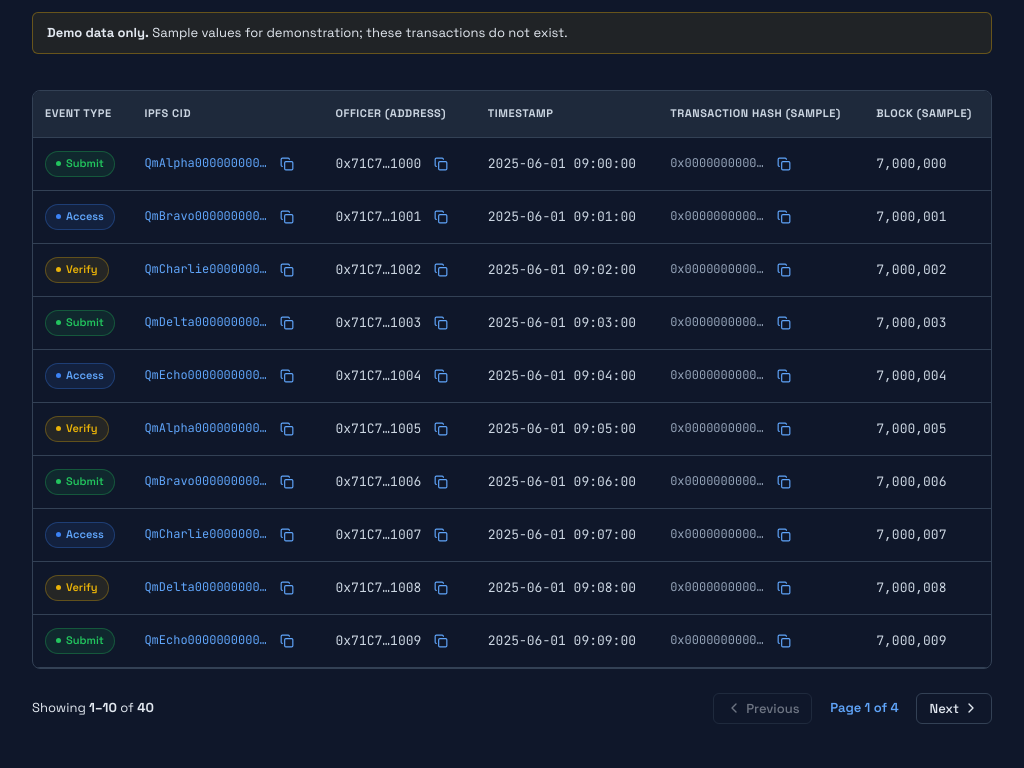
Test: ChainOfCustody: pagination › shows 10 rows per page and pages with Next and Previous
This screenshot has width=1024, height=768.
Click the button with aria-label "Next page" at (954, 708), box [916,693,992,724]
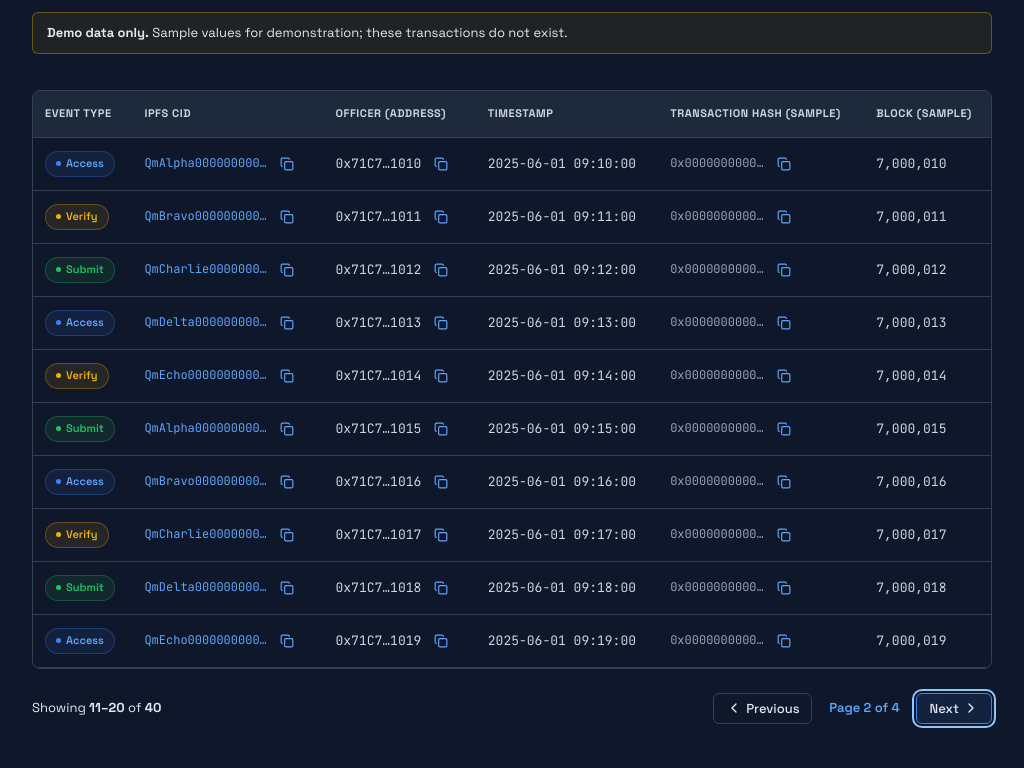
Check: the button named "transaction hash for event LOG-011" is shown, box [770,150,798,178]
Check: the navigation bar named "Pagination" shows "Page 2 of 4", box [32,693,992,724]
Click the button with aria-label "Previous page" at (763, 708), box [713,693,812,724]
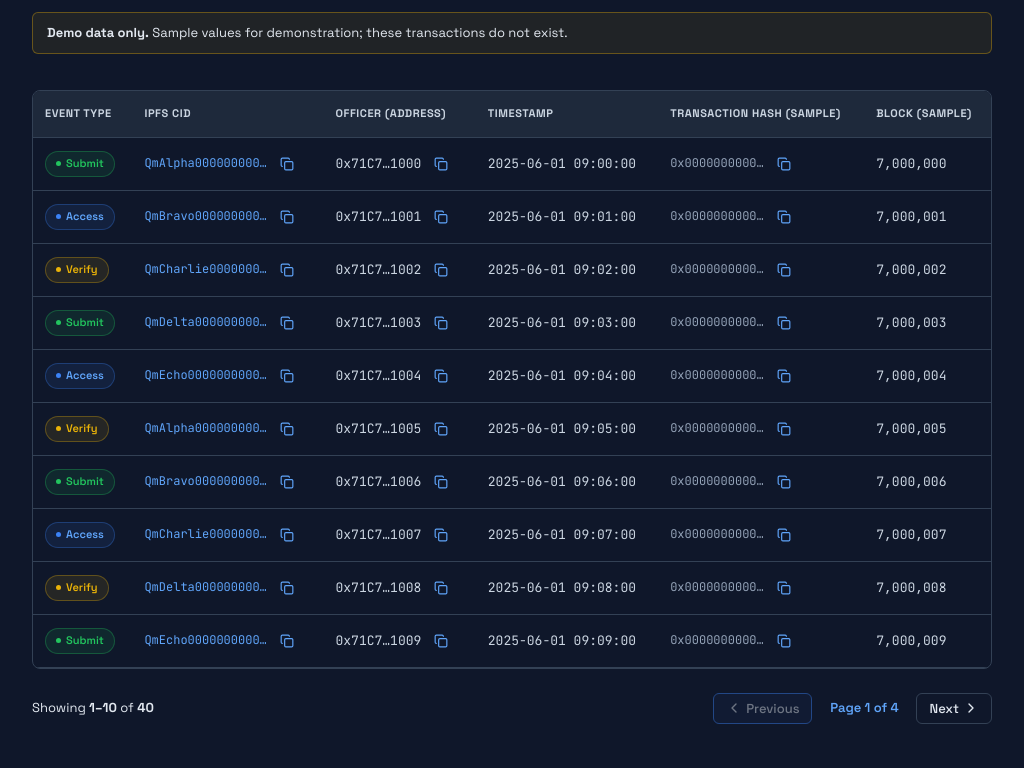
Check: the navigation bar named "Pagination" shows "Page 1 of 4", box [32,693,992,724]
